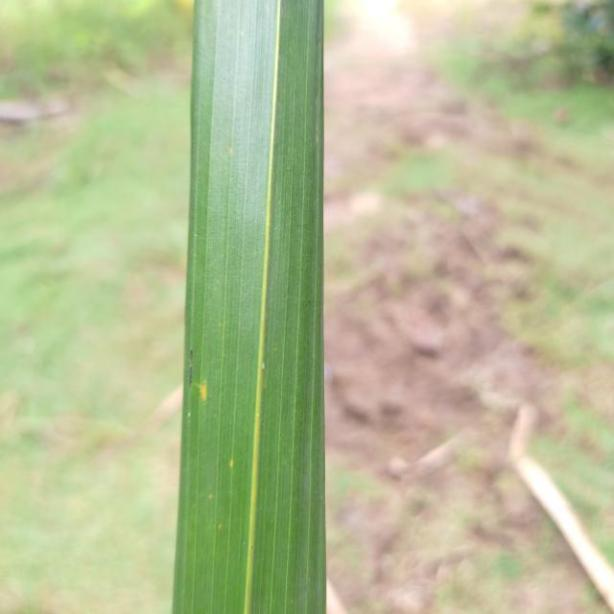Kalium: (174, 0, 331, 614)
